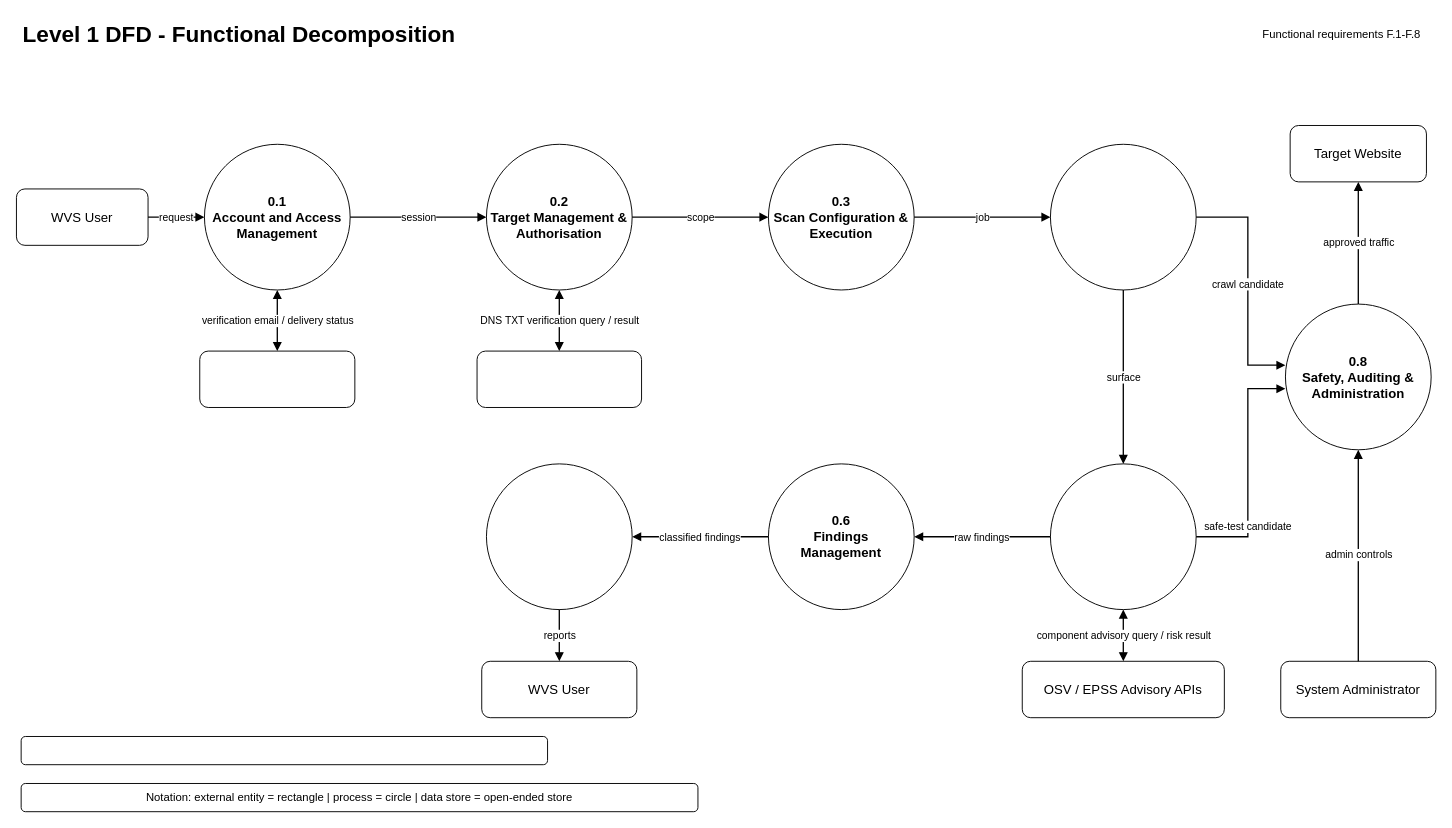
This 1452x828 diagram has some shape labels left out. Each missing label, with the box of its shape:
0.4 Discovery (Crawling): (1050, 143, 1196, 290)
0.5 Vulnerability Detection: (1050, 463, 1196, 610)
0.7 Reporting & Export: (486, 463, 632, 610)
Data stores and their flows are decomposed in the relevant Level 2 DFDs.: (20, 736, 548, 765)
Public DNS Resolvers: (476, 350, 642, 407)
SMTP Relay: (199, 350, 355, 407)
